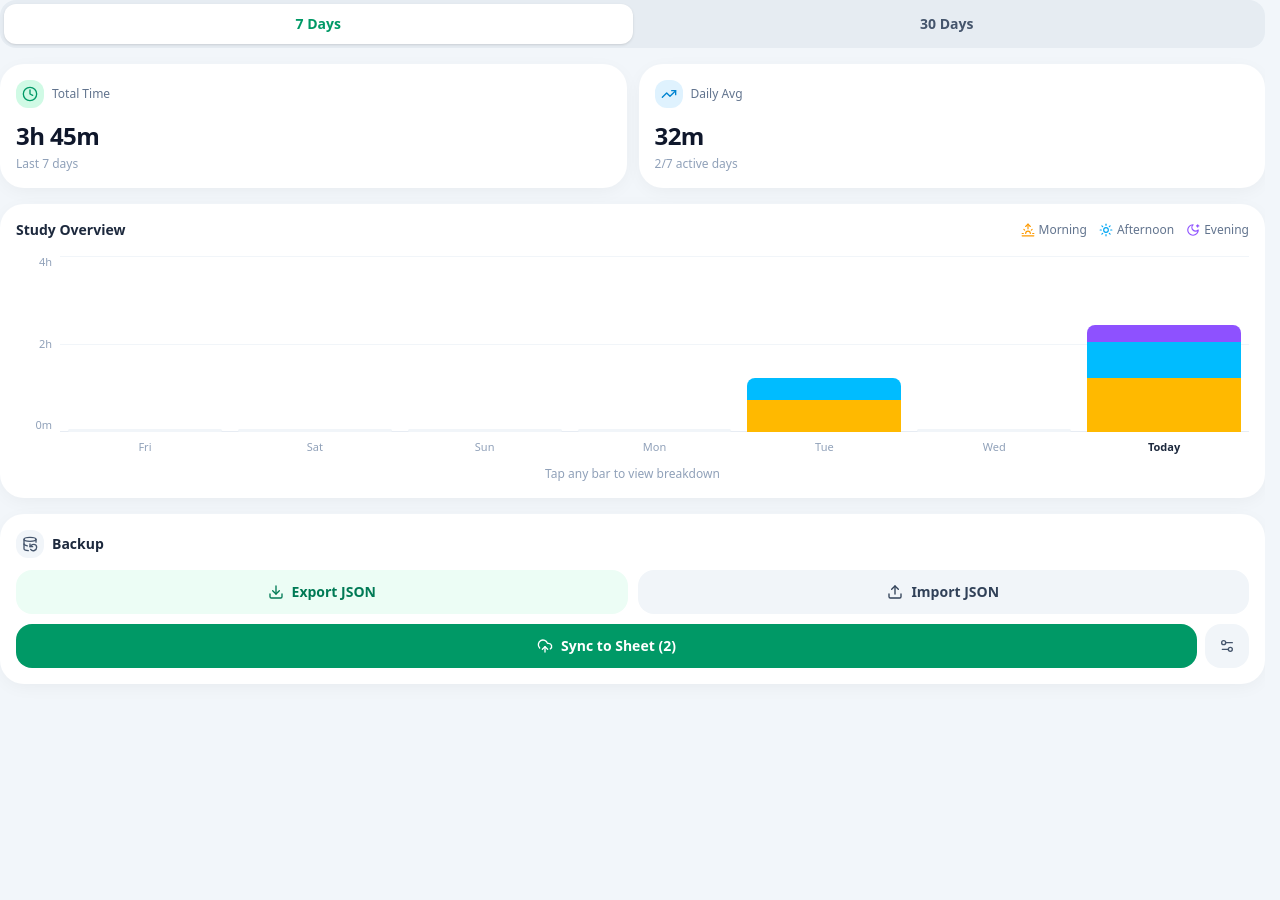
StudyChart & StatsView › renders 7-day and 30-day bars and mixed-duration totals cleanly via StatsView toggle
The image size is (1280, 900).
Check: the text "3h 45m" is shown, box [16,119,99,152]
Check: the text "2/7 active days" is shown, box [654,155,738,172]
Click the button "30 Days" at (947, 24), box [632,4,1261,44]
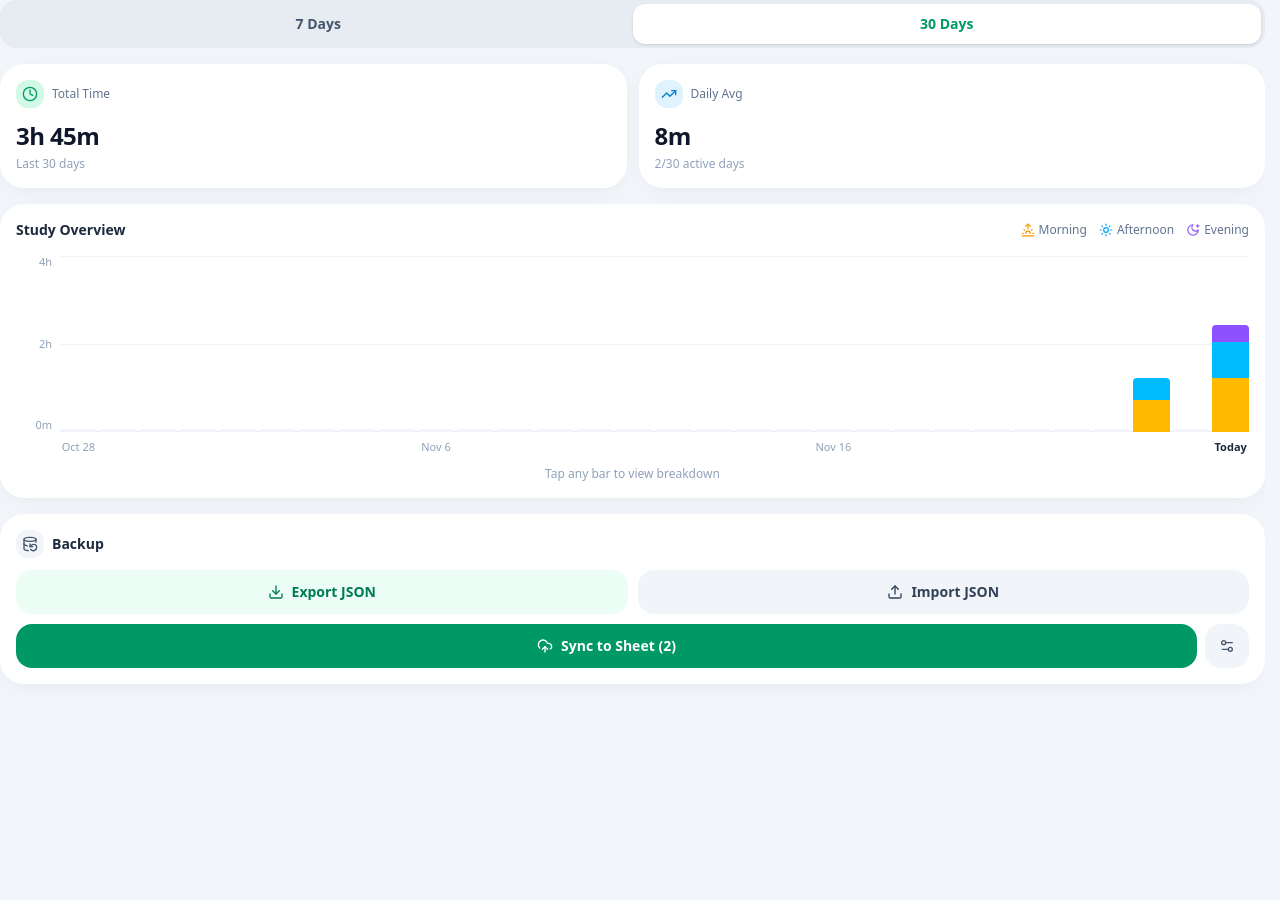
Check: the text "2/30 active days" is shown, box [654,155,745,172]
